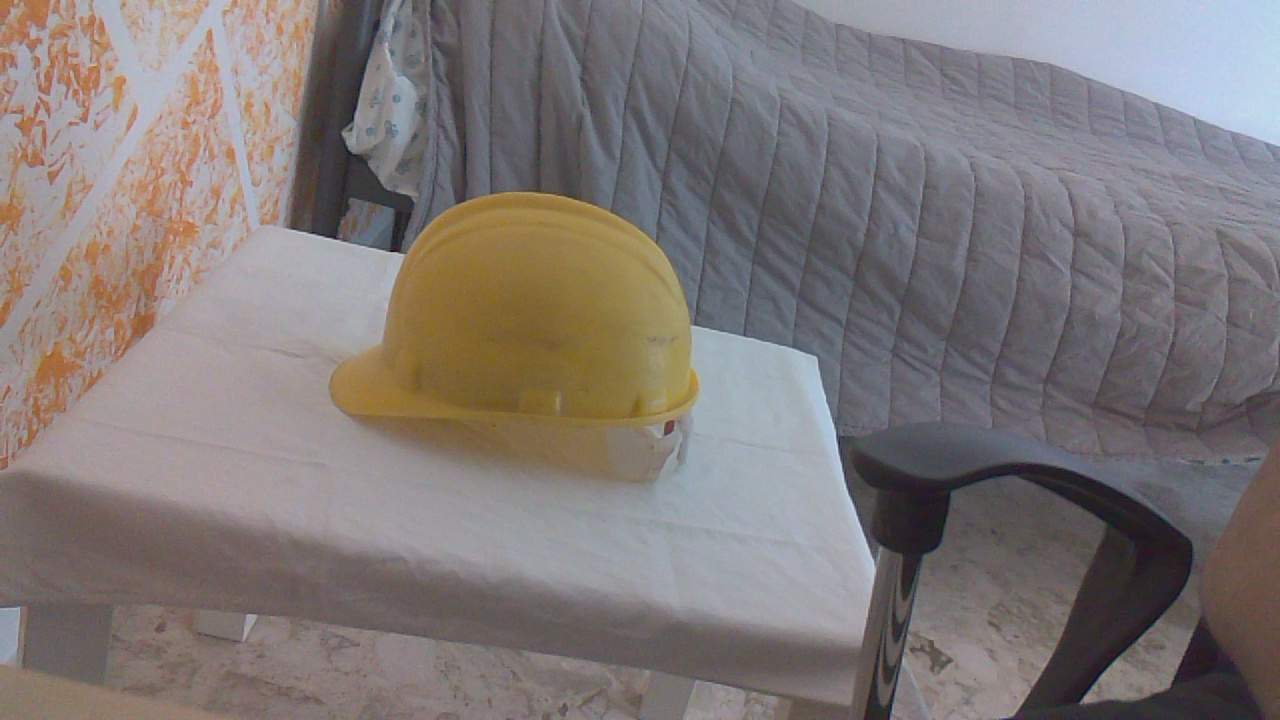Helmet: (327, 178, 699, 488)
